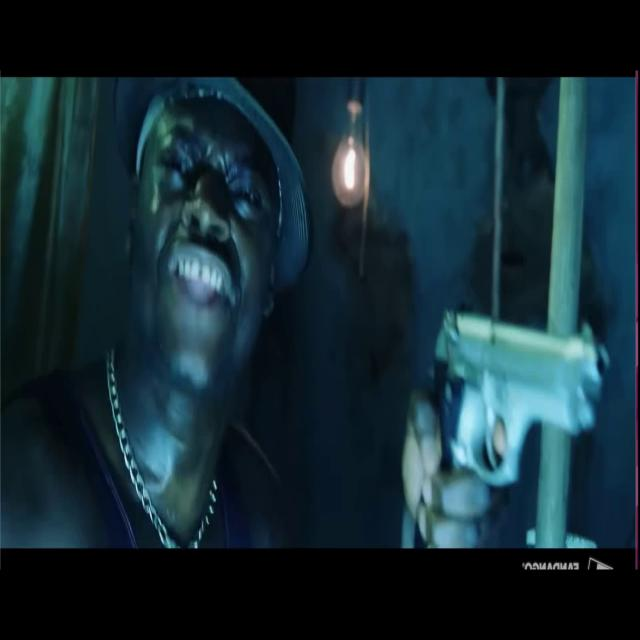weapons: (416, 306, 612, 524)
